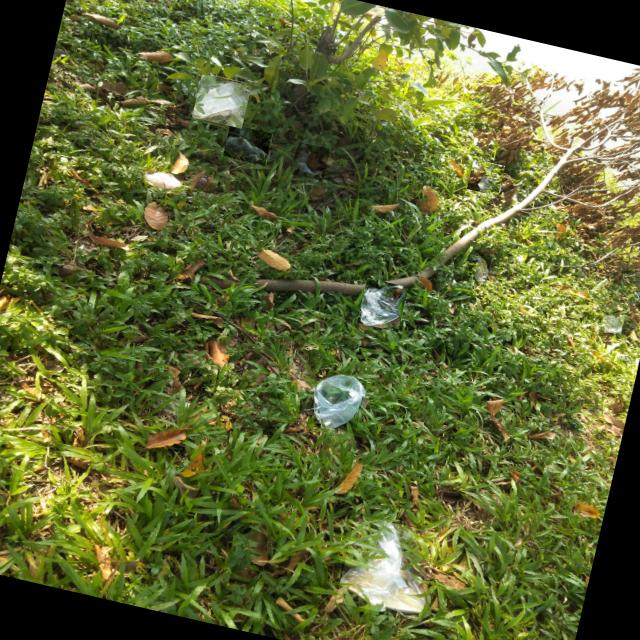Other plastic bottle: (632, 291, 640, 299)
Plastic film: (340, 523, 425, 613), (314, 375, 365, 429), (194, 82, 247, 119), (361, 285, 406, 326), (225, 127, 267, 164), (471, 159, 502, 193), (293, 144, 323, 178), (467, 252, 488, 285), (144, 172, 182, 188)
Plastic lid: (602, 316, 621, 333)
